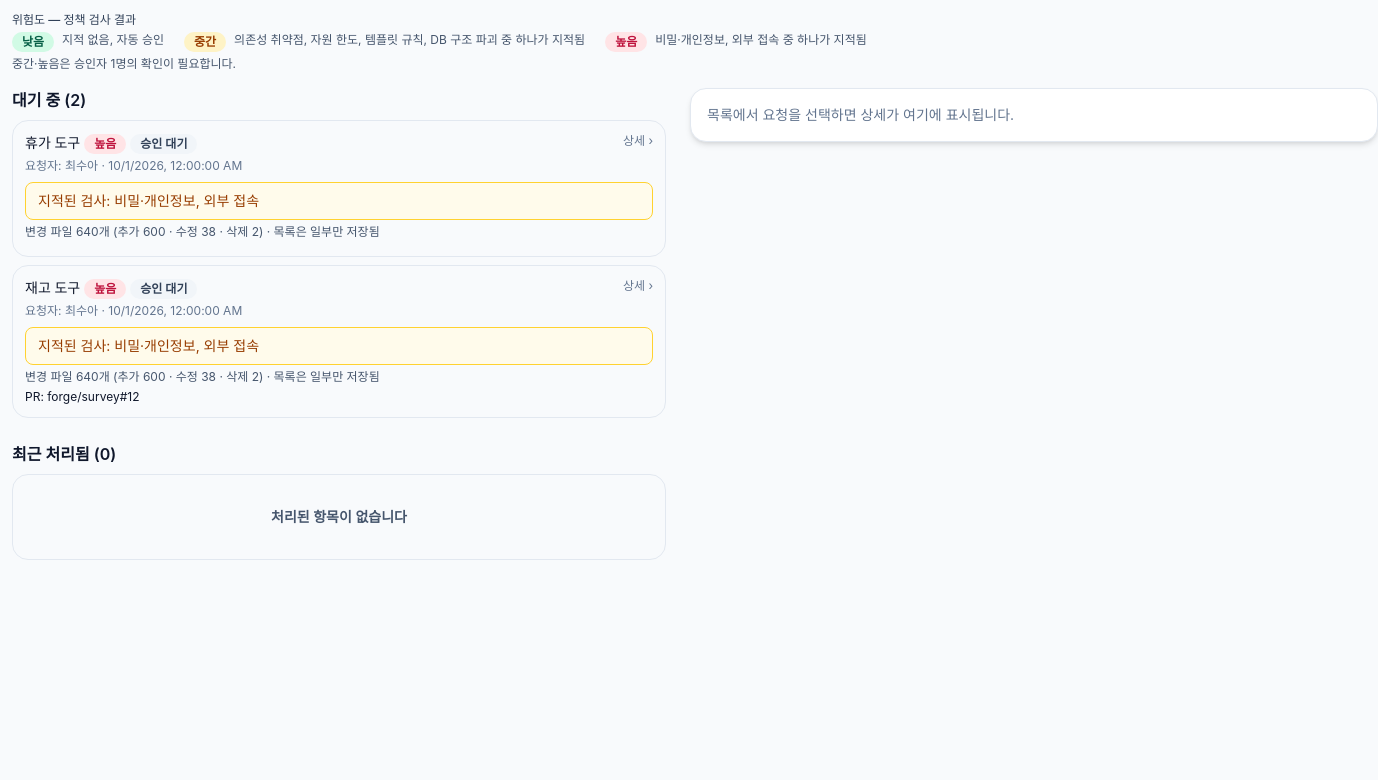
it: every section is its own card (jsdom cannot see appearance, so structure and heading level only) › leaves the PR card out when the row has no PR, and the notice card out when there is no agent summary
Step 1. Click the list item with aria-label "휴가 도구 요청 상세 보기" → (339, 188), box [12,120,666,257]
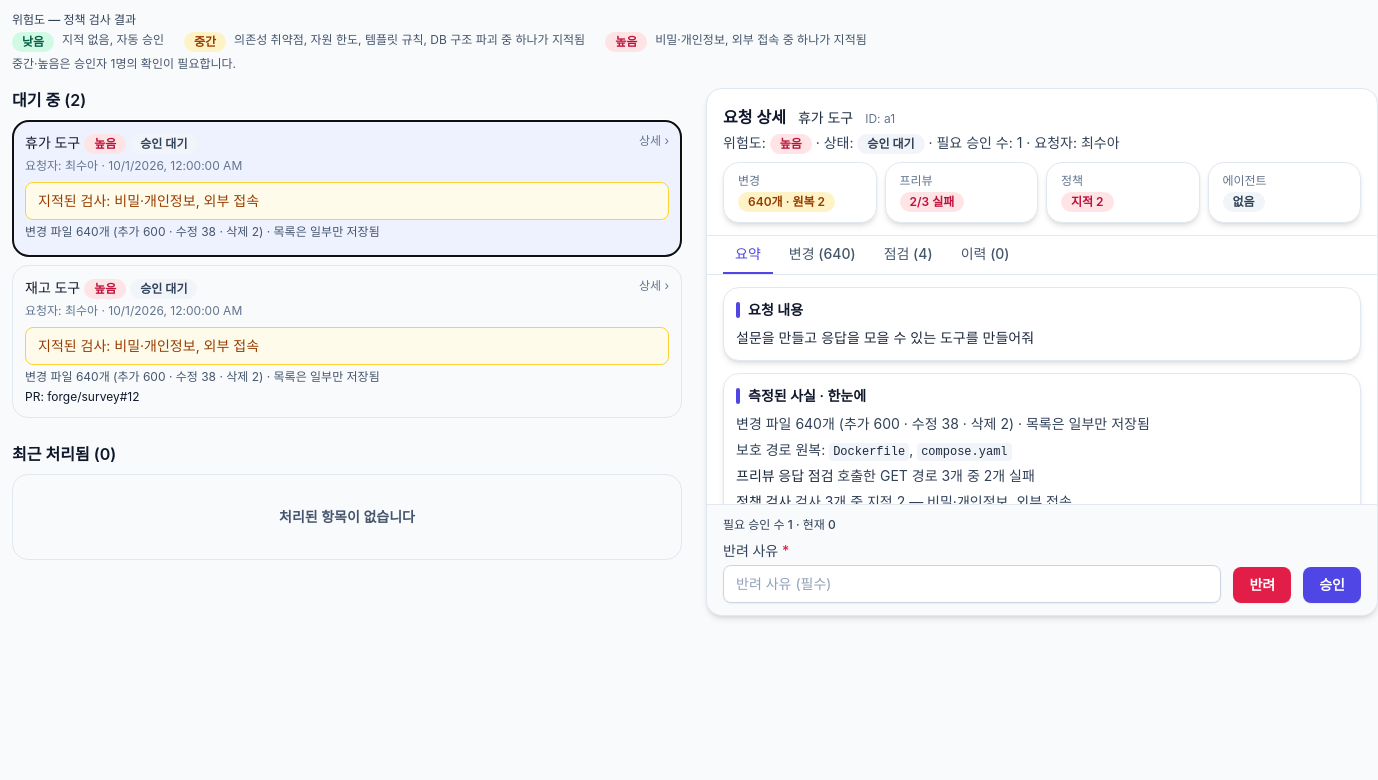
Now the headings read "요청 내용", "측정된 사실 · 한눈에", in this order, box [736,301,803,318]; [736,387,866,404]
